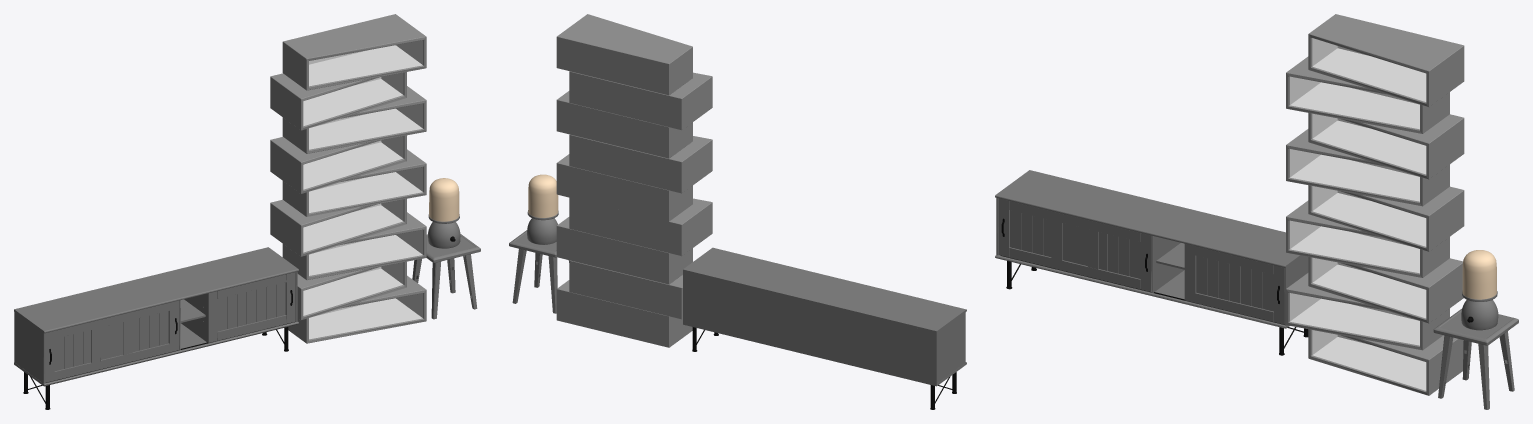
The model's file is guizi.FBX.
3 views of the same model, side by side, from view 1: azimuth 30°, elevation 25°; view 2: azimuth 150°, elevation 25°; view 3: azimuth 330°, elevation 25° (orthographic). The views are drawn at different scales.
Visible parts, largest first — view 1: li, huozi, wai, dengzi, dengzhao, dizuo; view 2: wai, huozi, dengzi, dengzhao, dizuo; view 3: li, huozi, wai, dengzi, dengzhao, dizuo.
Boxes of the visible parts, box(x1,y1,x2,y2) form: li: box(303, 40, 423, 339); huozi: box(14, 247, 298, 409); wai: box(270, 14, 426, 343); dengzi: box(412, 234, 480, 319); dengzhao: box(429, 178, 459, 221); dizuo: box(428, 214, 460, 248); wai: box(556, 14, 712, 347); huozi: box(683, 247, 966, 409); dengzi: box(509, 230, 569, 313); dengzhao: box(528, 174, 558, 217); dizuo: box(527, 210, 558, 244); li: box(1290, 38, 1426, 390); huozi: box(995, 170, 1308, 355); wai: box(1286, 14, 1464, 395); dengzi: box(1433, 309, 1518, 409); dengzhao: box(1462, 250, 1496, 299); dizuo: box(1461, 291, 1498, 330).
Bounding box in the file's own units: 3140 × 413 × 1971.
